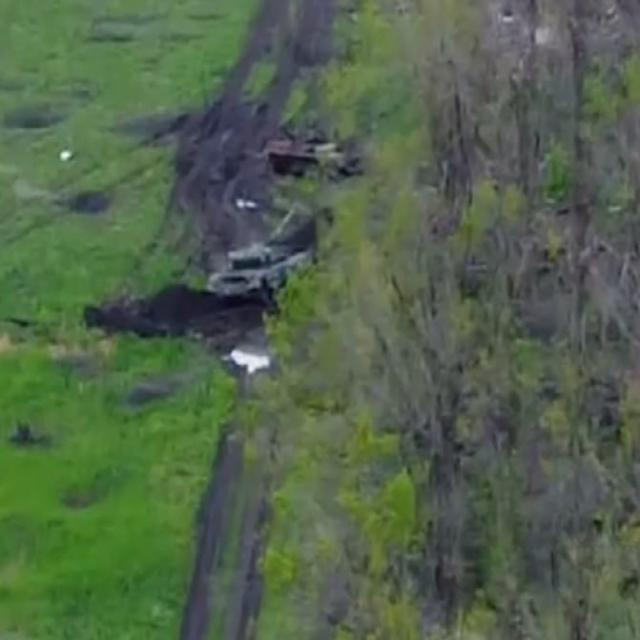Destroyed: (255, 126, 363, 185)
MBT: (205, 208, 314, 309)
